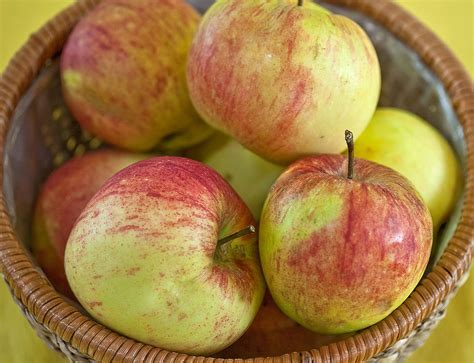apple: (58, 151, 277, 356), (258, 137, 438, 338), (182, 1, 385, 169)
